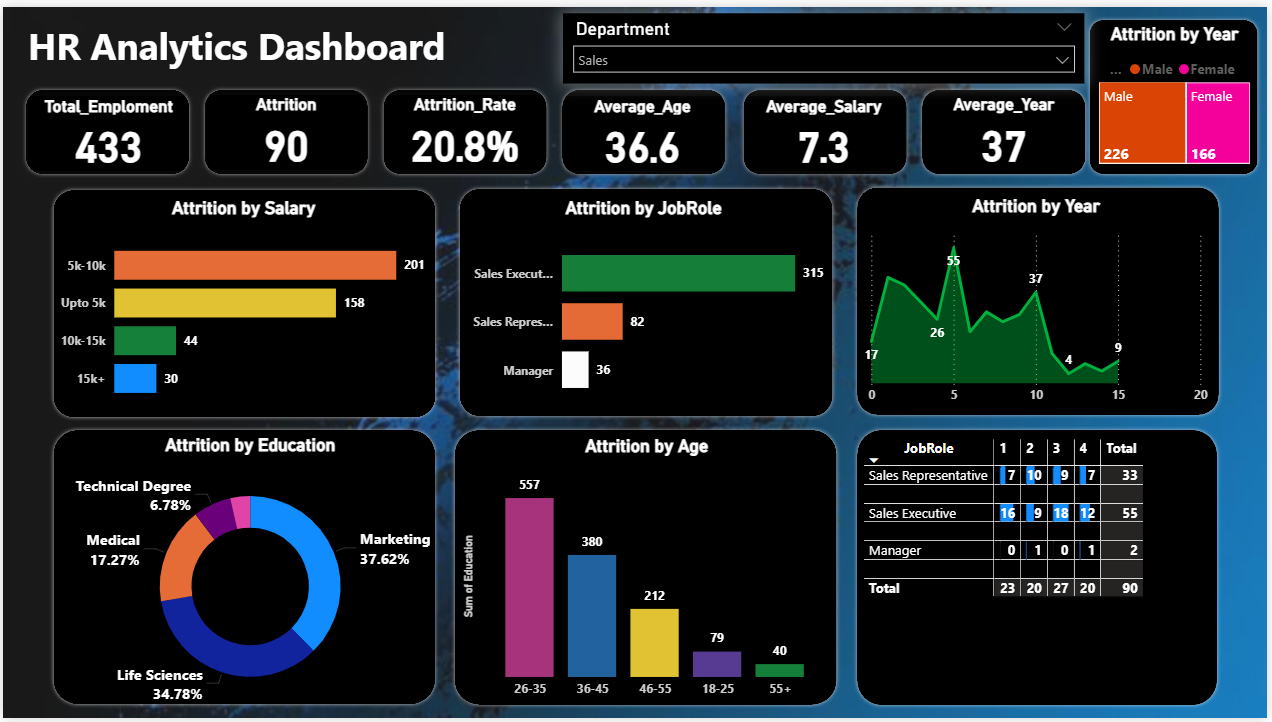

Layout of this report page (visuals, bound fields, positions):
{"tool":"powerbi","page":{"name":"Page 1","canvas":[1280,720],"ordinal":0},"visuals":[{"type":"shape","box":[926.5,79.4,173.8,93.8],"z":0},{"type":"shape","box":[19.3,78.4,173.7,94.1],"z":1000},{"type":"card","title":"Total_Emploment","fields":{"Values":["CountNonNull(HR_Analytics.EmpID)"]},"box":[21.7,85.7,170.1,84.5],"z":2000},{"type":"shape","box":[200.3,79.4,173.8,93.8],"z":3000},{"type":"shape","box":[381.5,79.4,173.8,93.8],"z":4000},{"type":"shape","box":[562.4,79.4,173.8,93.8],"z":5000},{"type":"card","title":"Attrition","fields":{"Values":["Sum(HR_Analytics.Count_Attrition)"]},"box":[205.3,88.2,163.8,76.2],"z":6000},{"type":"card","title":"Attrition_Rate","fields":{"Values":["HR_Analytics.AttritionRate"]},"box":[386.5,88.2,163.8,76.2],"z":7000},{"type":"card","title":"Average_Age","fields":{"Values":["Avg(HR_Analytics.Age)"]},"box":[566.2,89.4,163.8,76.2],"z":8000},{"type":"shape","box":[745.5,79.4,173.8,93.8],"z":9000},{"type":"card","title":"Average_Salary","fields":{"Values":["Avg(HR_Analytics.YearsAtCompany)"]},"box":[749.3,89.4,163.8,76.2],"z":10000},{"type":"card","title":"Average_Year","fields":{"Values":["Avg(HR_Analytics.Age)"]},"box":[931.5,88.2,163.8,76.2],"z":11000},{"type":"shape","box":[46.7,424.4,395,286.2],"z":12000},{"type":"donutChart","title":"Attrition by Education","fields":{"Category":["HR_Analytics.EducationField"],"Y":["Sum(HR_Analytics.Education)"]},"box":[54.3,433.1,392.1,281.1],"z":13000},{"type":"shape","box":[452.8,424.4,395.2,286.8],"z":14000},{"type":"columnChart","title":"Attrition by Age","fields":{"Y":["Sum(HR_Analytics.Education)"],"Category":["HR_Analytics.AgeGroup"]},"box":[460.9,434.3,382.4,273.9],"z":15000},{"type":"shape","box":[860.7,424.4,372.8,287.1],"z":16000},{"type":"pivotTable","title":"Attrition by Age","fields":{"Rows":["HR_Analytics.JobRole"],"Columns":["HR_Analytics.JobSatisfaction"],"Values":["Sum(HR_Analytics.Count_Attrition)"]},"box":[867.4,433.1,353.5,270.2],"z":17000},{"type":"shape","box":[46.7,181.1,395.2,238.8],"z":18000},{"type":"shape","box":[457.7,179.7,386.1,238.9],"z":19000},{"type":"clusteredBarChart","title":"Attrition by Salary","fields":{"Category":["HR_Analytics.SalarySlab"],"Y":["CountNonNull(HR_Analytics.Attrition)"]},"box":[51.9,193,383.6,219.6],"z":20000},{"type":"clusteredBarChart","title":"Attrition by JobRole","fields":{"Y":["CountNonNull(HR_Analytics.Attrition)"],"Category":["HR_Analytics.JobRole"]},"box":[458.4,191.8,381.2,219.6],"z":21000},{"type":"shape","box":[860.8,178.4,374.6,238.8],"z":22000},{"type":"areaChart","title":"Attrition by Year","fields":{"Category":["HR_Analytics.YearsAtCompany"],"Y":["CountNonNull(HR_Analytics.Attrition)"]},"box":[865,190.6,363.1,219.6],"z":23000},{"type":"shape","box":[1096.4,8.2,178.4,164.7],"z":24000},{"type":"treemap","title":"Attrition by Year","fields":{"Group":["HR_Analytics.Gender"],"Values":["CountNonNull(HR_Analytics.Attrition)"]},"box":[1105.1,16.9,162.9,147.2],"z":25000},{"type":"slicer","fields":{"Values":["HR_Analytics.Department"]},"box":[566.7,6.9,528.3,71.4],"z":26000},{"type":"textbox","box":[20.6,8.2,461.1,65.9],"z":27000}]}

Visuals, with their boxes in screenshot pixels (x1, y1, x2, y2), scaled from the page's 1280x720 canvas onto the 1272x722 screenshot:
shape: crop(921, 80, 1093, 174)
shape: crop(19, 79, 192, 173)
"Total_Emploment" card: crop(22, 86, 191, 171)
shape: crop(199, 80, 372, 174)
shape: crop(379, 80, 552, 174)
shape: crop(559, 80, 732, 174)
"Attrition" card: crop(204, 88, 367, 165)
"Attrition_Rate" card: crop(384, 88, 547, 165)
"Average_Age" card: crop(563, 90, 725, 166)
shape: crop(741, 80, 914, 174)
"Average_Salary" card: crop(745, 90, 907, 166)
"Average_Year" card: crop(926, 88, 1088, 165)
shape: crop(46, 426, 439, 713)
"Attrition by Education" donutChart: crop(54, 434, 444, 716)
shape: crop(450, 426, 843, 713)
"Attrition by Age" columnChart: crop(458, 436, 838, 710)
shape: crop(855, 426, 1226, 713)
"Attrition by Age" pivotTable: crop(862, 434, 1213, 705)
shape: crop(46, 182, 439, 421)
shape: crop(455, 180, 839, 420)
"Attrition by Salary" clusteredBarChart: crop(52, 194, 433, 414)
"Attrition by JobRole" clusteredBarChart: crop(456, 192, 834, 413)
shape: crop(855, 179, 1228, 418)
"Attrition by Year" areaChart: crop(860, 191, 1220, 411)
shape: crop(1090, 8, 1267, 173)
"Attrition by Year" treemap: crop(1098, 17, 1260, 165)
slicer - HR_Analytics.Department: crop(563, 7, 1088, 79)
textbox: crop(20, 8, 479, 74)
